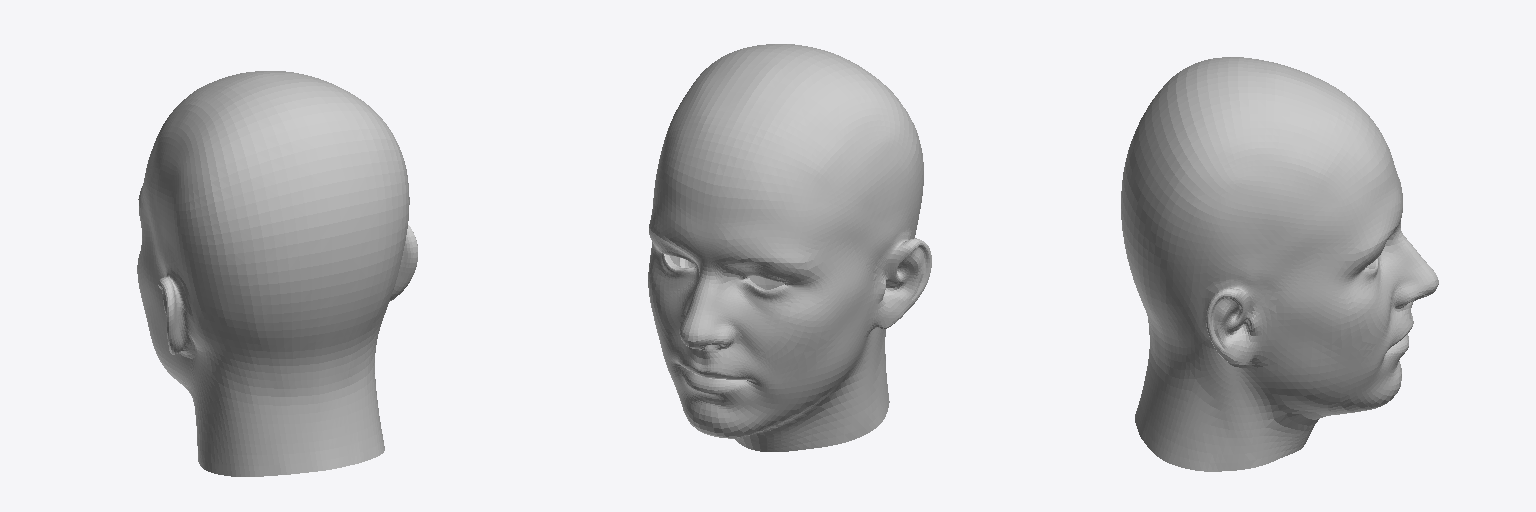
Rendered from head.obj.
The picture shows the model from 3 angles: view 1: azimuth 30°, elevation 25°; view 2: azimuth 150°, elevation 25°; view 3: azimuth 270°, elevation 25°; orthographic projection.
Visible parts, largest first — view 1: test_head:Mesh; view 2: test_head:Mesh; view 3: test_head:Mesh.
Part boxes in pixels (x1,y1,x2,y2): test_head:Mesh: (137,71,417,476); test_head:Mesh: (648,44,931,451); test_head:Mesh: (1121,57,1438,471).
Size of the model in its own units: 1.72 by 2.41 by 1.87.